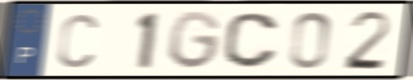0: (288, 9, 334, 71)
1: (133, 10, 162, 71)
2: (343, 9, 393, 72)
C: (221, 10, 281, 70), (55, 11, 101, 70)
G: (167, 9, 224, 72)
